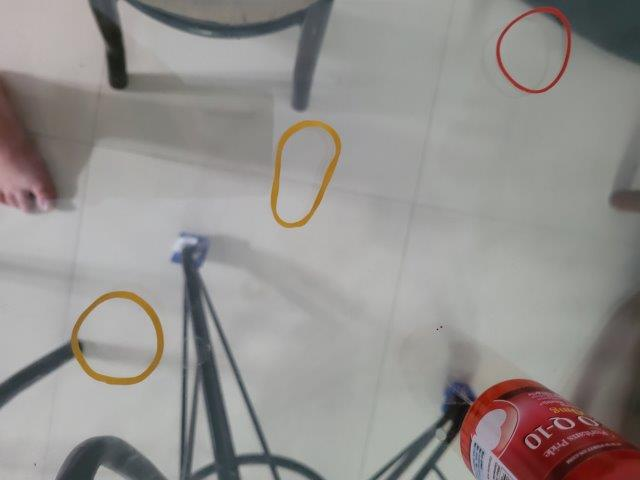karet: (70, 291, 164, 385), (270, 119, 343, 229), (497, 9, 573, 94)
